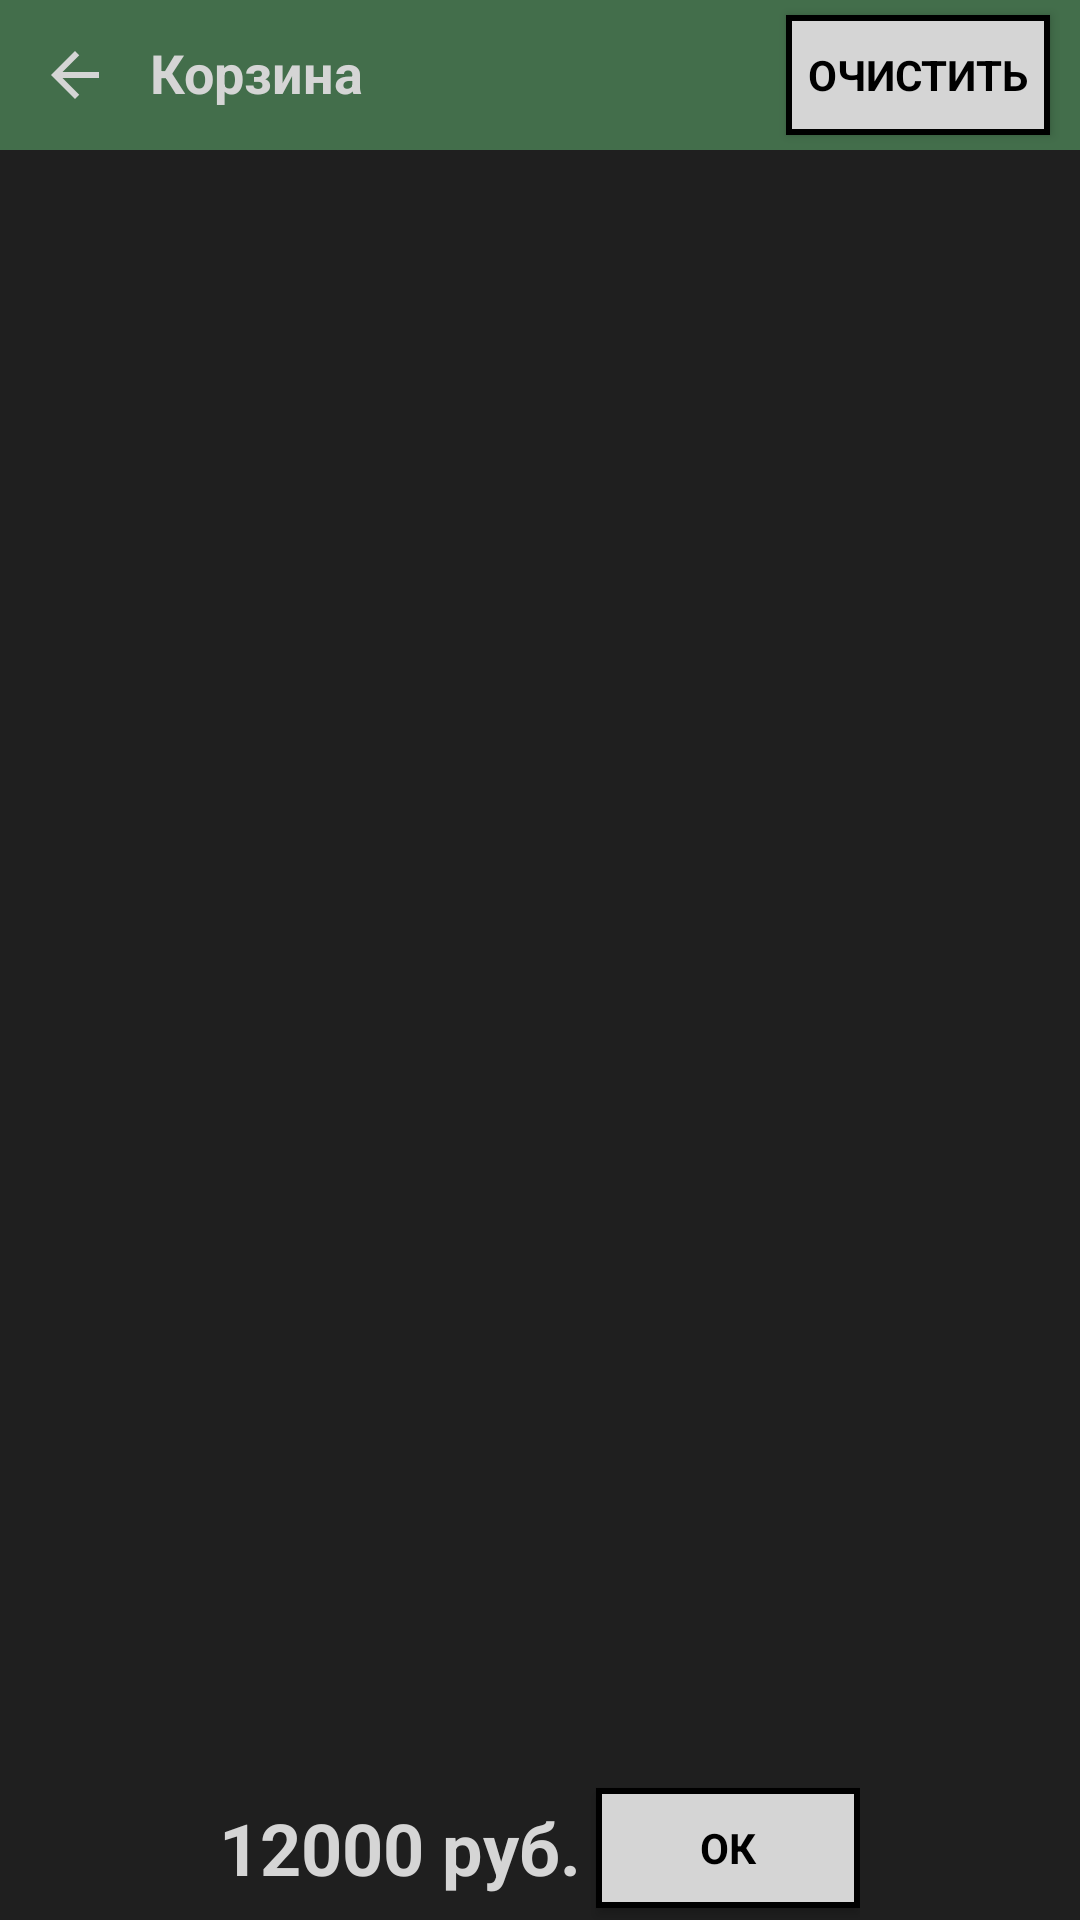

Named icons in this screenshot (1080*1920) and their centers, (x,y):
arrow back: (75,75)
